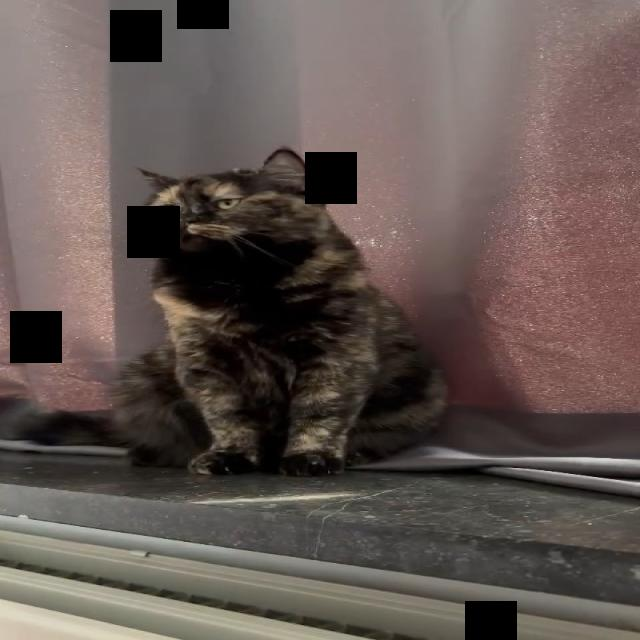authorized: (107, 146, 449, 477)
